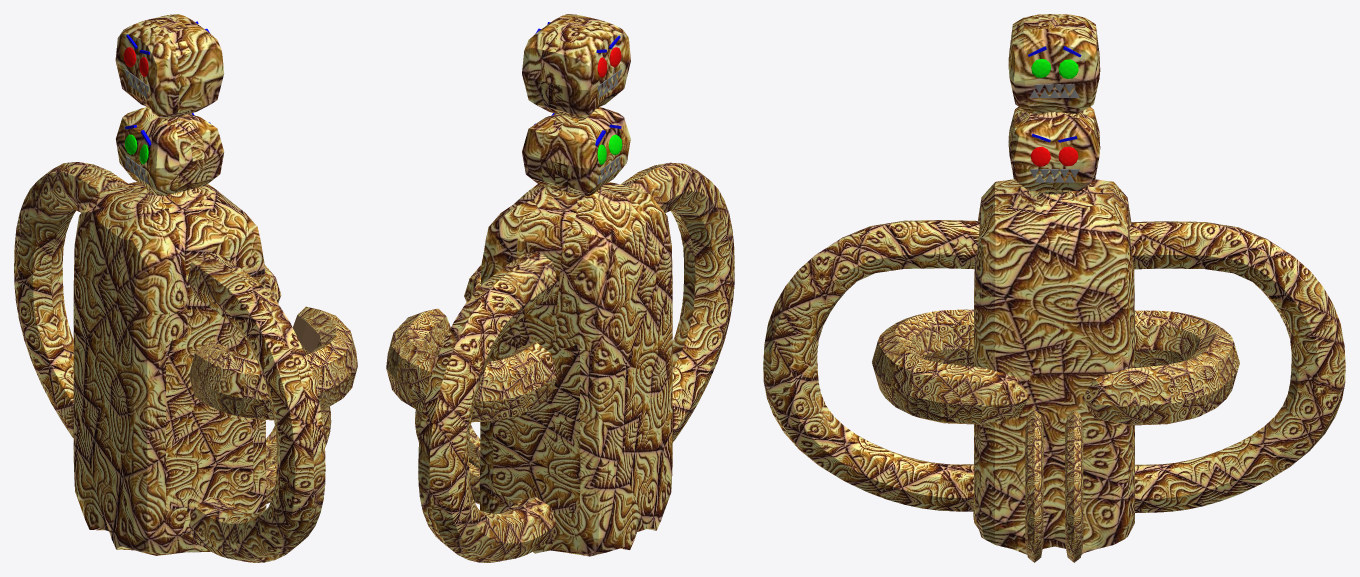
File: estatuillatpfinal.fbx
The picture shows the model from 3 angles, left to right: view 1: azimuth 30°, elevation 25°; view 2: azimuth 150°, elevation 25°; view 3: azimuth 270°, elevation 25°; orthographic projection.
Visible parts, largest first — view 1: Cube.001, Cube.010, Cube.008, Cube.003, Cube.007; view 2: Cube.001, Cube.008, Cube.010, Cube.002, Cube.006; view 3: Cube.001, Cube.008, Cube.010, Cube.002, Cube.003, Cube.007, Cube.006.
Part boxes in pixels (x1,y1,x2,y2): Cube.001: (73,14,266,555); Cube.010: (187,252,325,562); Cube.008: (14,162,127,437); Cube.003: (189,306,357,420); Cube.007: (266,406,331,503); Cube.001: (479,14,672,556); Cube.008: (418,251,557,562); Cube.010: (620,162,734,442); Cube.002: (386,308,556,422); Cube.006: (415,409,479,504); Cube.001: (973,14,1134,554); Cube.008: (1129,221,1345,512); Cube.010: (763,220,979,511); Cube.002: (1082,310,1239,425); Cube.003: (872,309,1029,424); Cube.007: (1025,410,1043,562); Cube.006: (1065,410,1083,562).
Bounding box in the file's own units: 633 × 1390 × 1462.
5 materials, 5 textured.
